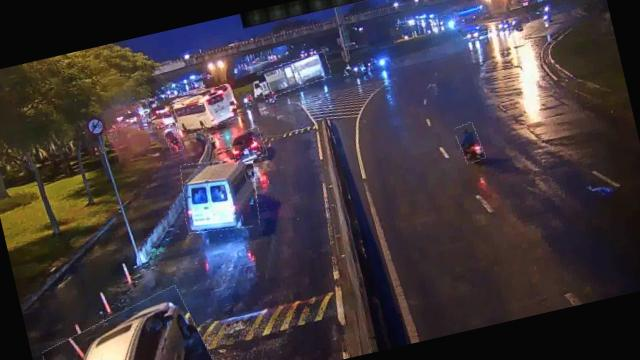Bike: (454, 122, 484, 165), (162, 124, 184, 154)
Bus: (175, 151, 265, 238), (169, 84, 240, 136)
Car: (39, 290, 217, 360), (228, 127, 267, 164)
Truck: (255, 52, 332, 98)
